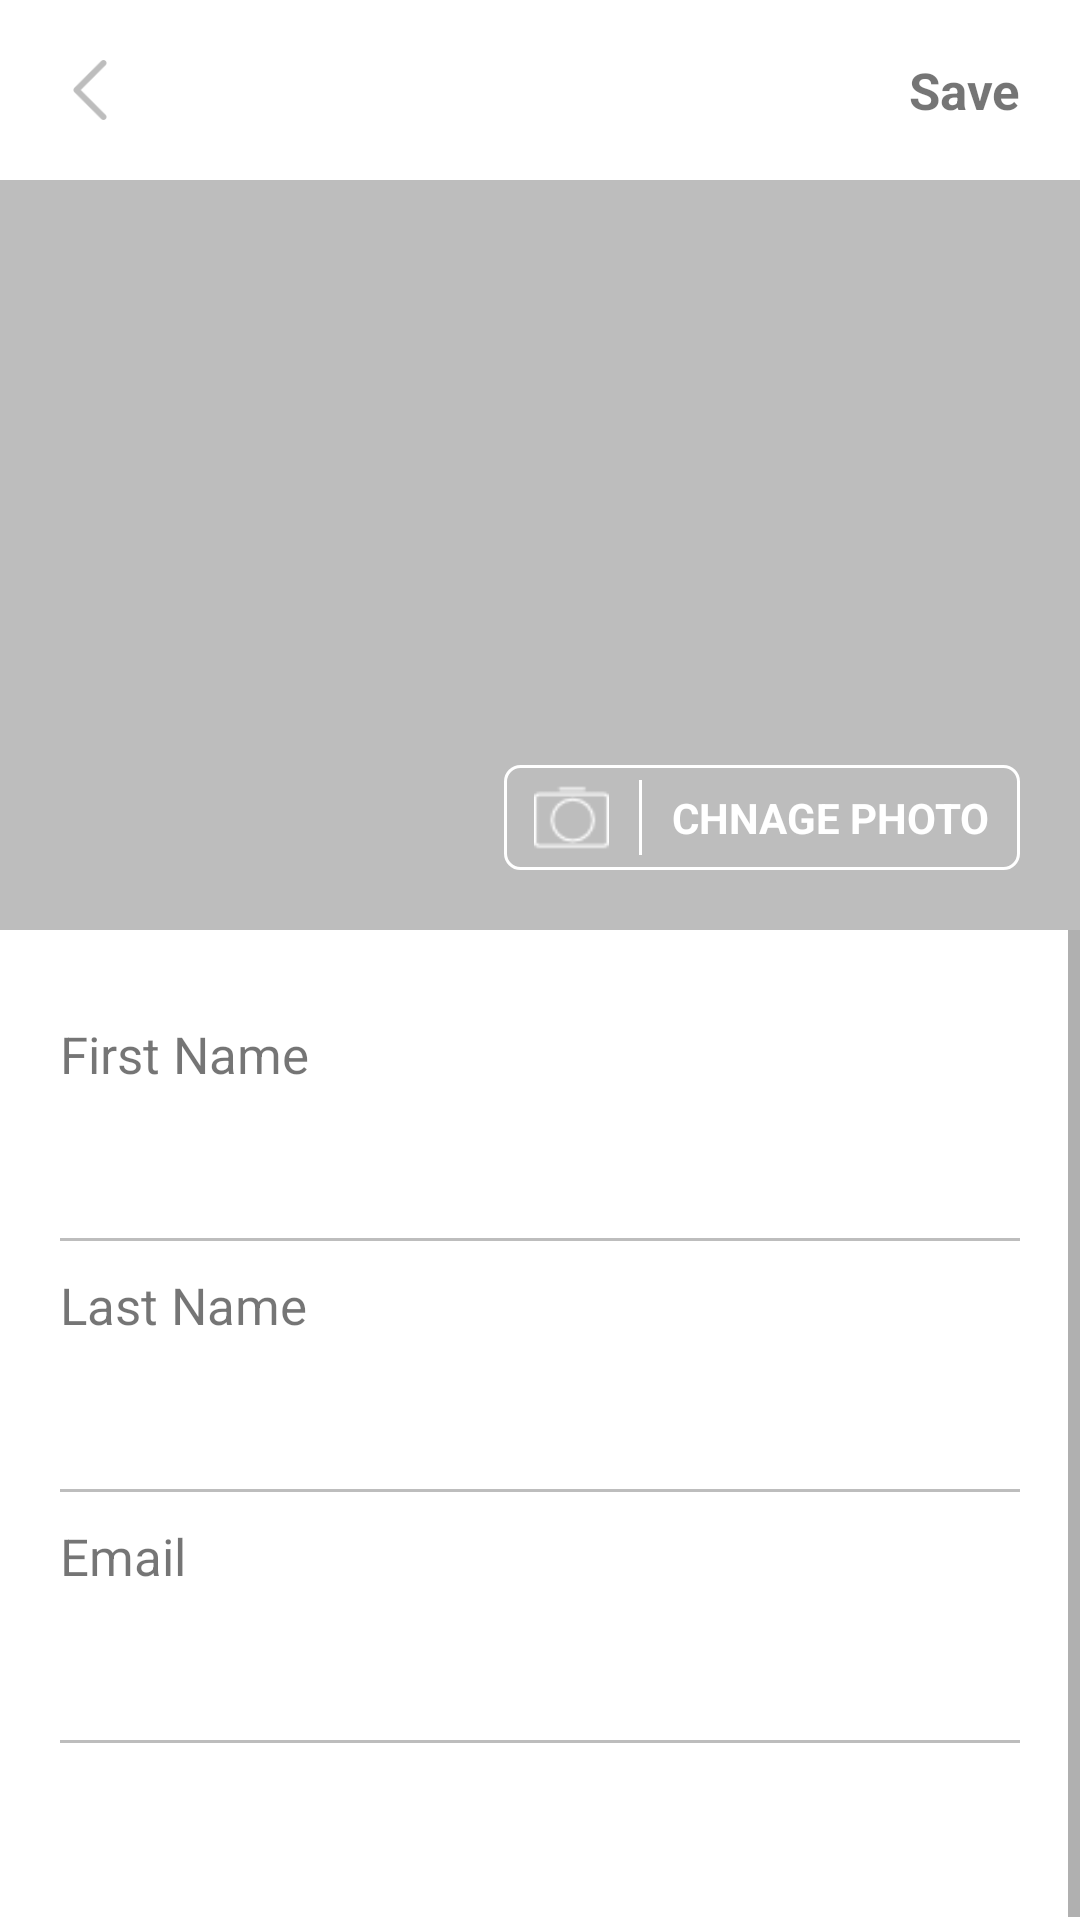

Where to tap for icons on this 1080w x 1920h app screen, as (x=x, y=y):
backicon: (x=90, y=90)
camera: (x=571, y=817)
